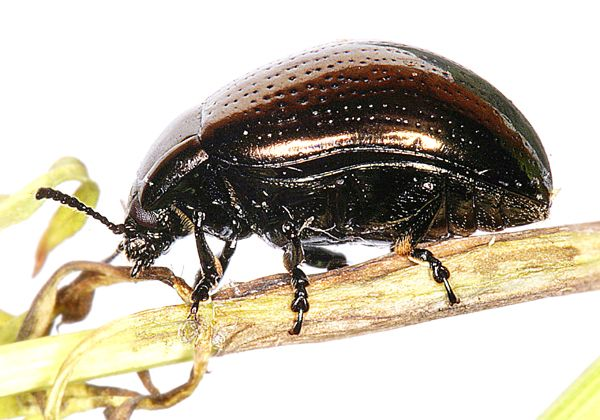Chrysolina_oricalcia: (29, 32, 559, 346)
